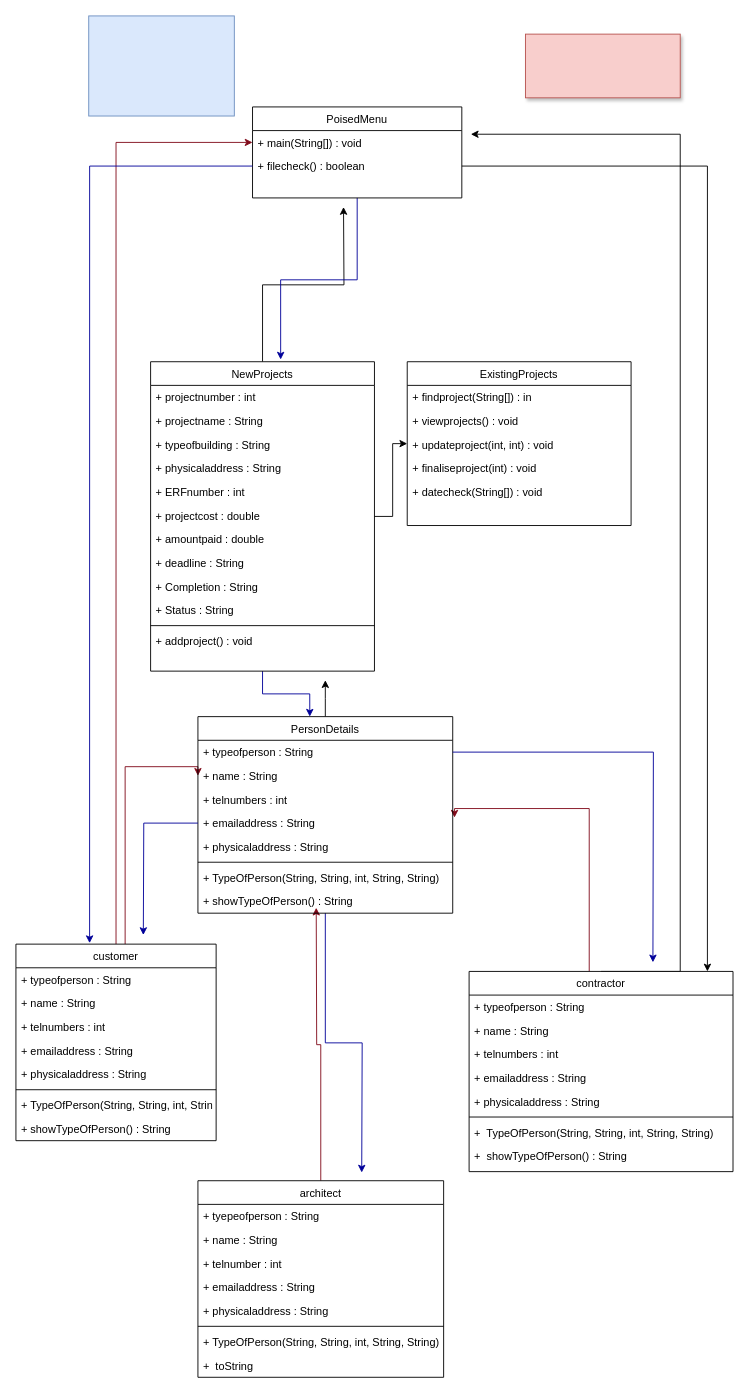
Image size: 749x1396. Some labels were removed from this diagram. Each missing label, with the centre of its shape:
"The ProjectDetails and TypeOfPerson Classes are called in PoisedFirm(main class)" belongs at [161,65].
"This project start in PoisedFirm(main)" belongs at [603,67].
